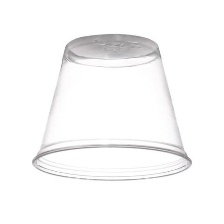glass: (29, 29, 209, 188)
